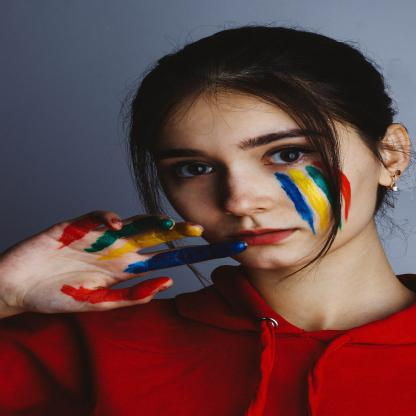Eye: (256, 141, 312, 168), (168, 159, 219, 178)
Mouth: (220, 223, 301, 245)
Nose: (216, 171, 276, 214)
